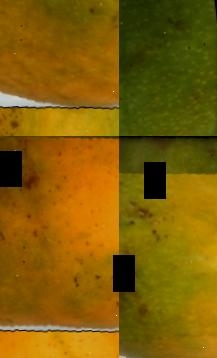PartiallyRipe: (0, 136, 119, 358), (119, 136, 217, 358), (0, 0, 119, 136)
Unripe: (119, 0, 217, 136)
